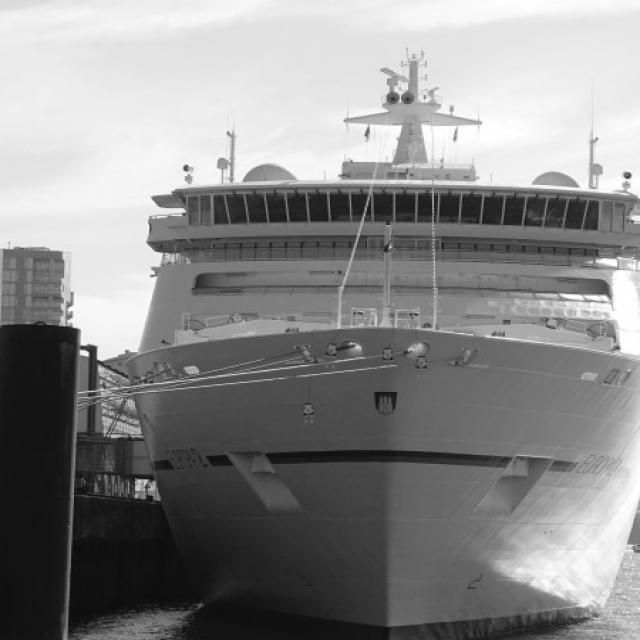cruises: (113, 50, 640, 640)
